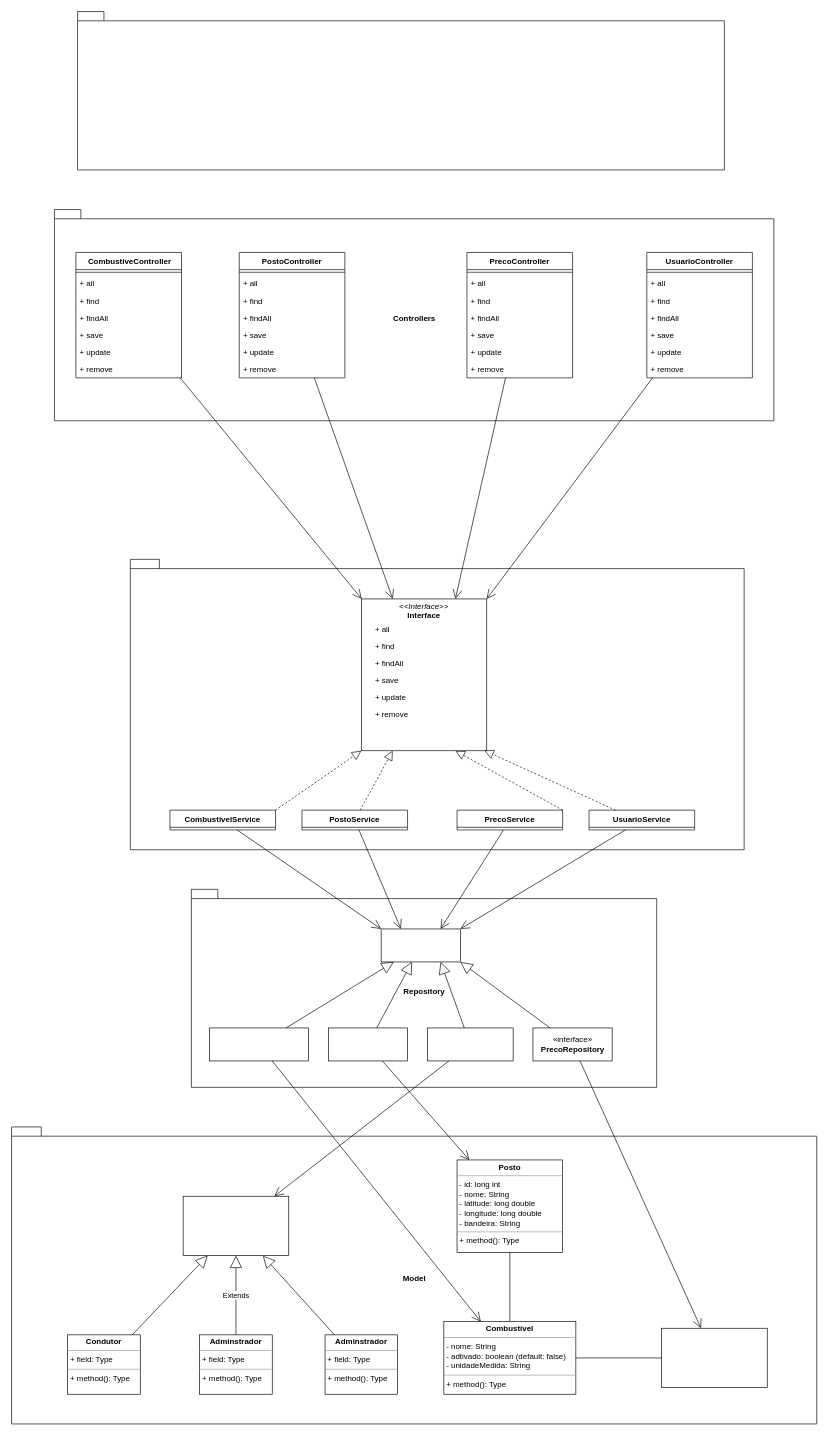
This 828x1436 diagram has some shape labels left out. The centre of each missing label's shape, as x and y in pixels:
Preço - preço: double - data: localDateTime + method(): Type: (714,1358)
Usuário - nome: String + method(): Type: (235,1226)
View: (400,90)
«interface» CombustivelRepository: (259,1044)
«interface» JpaRepository: (420,945)
«interface» PostoRepository: (368,1044)
«interface» UsuarioRepository: (470,1044)
